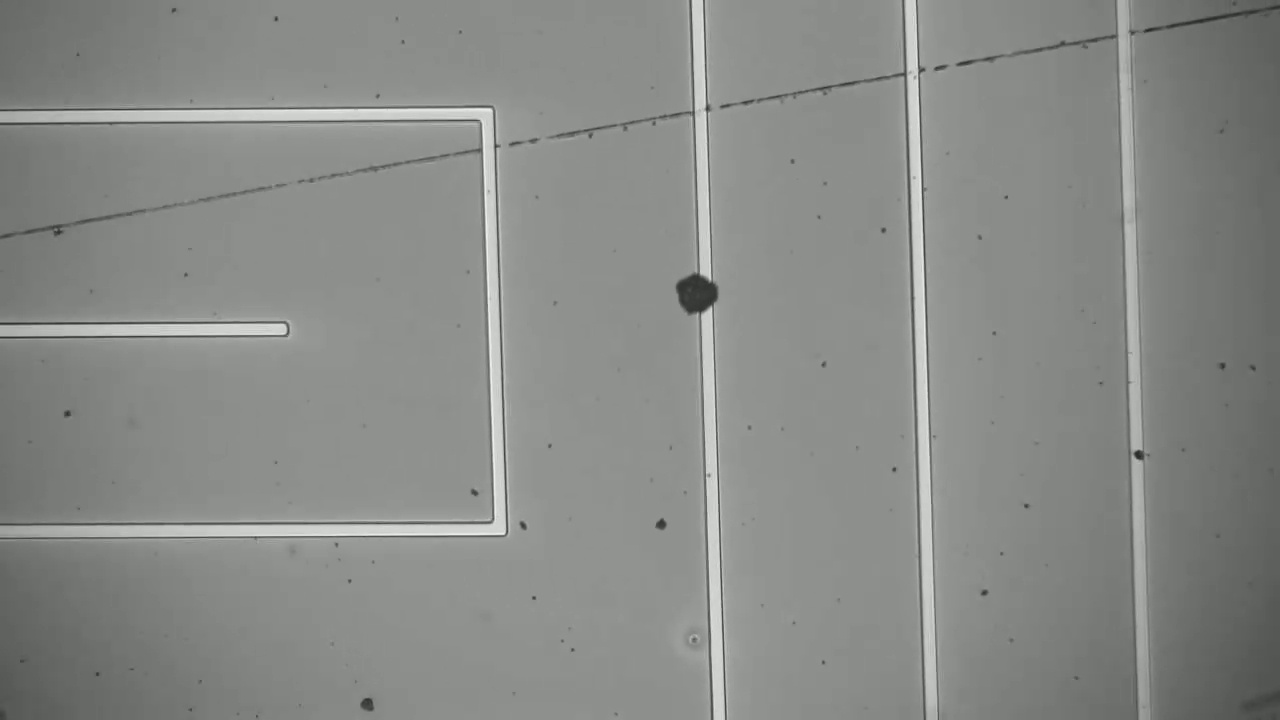scratch: (0, 13, 1272, 244)
stains_enbedded: (668, 266, 728, 325), (1126, 440, 1150, 471)
